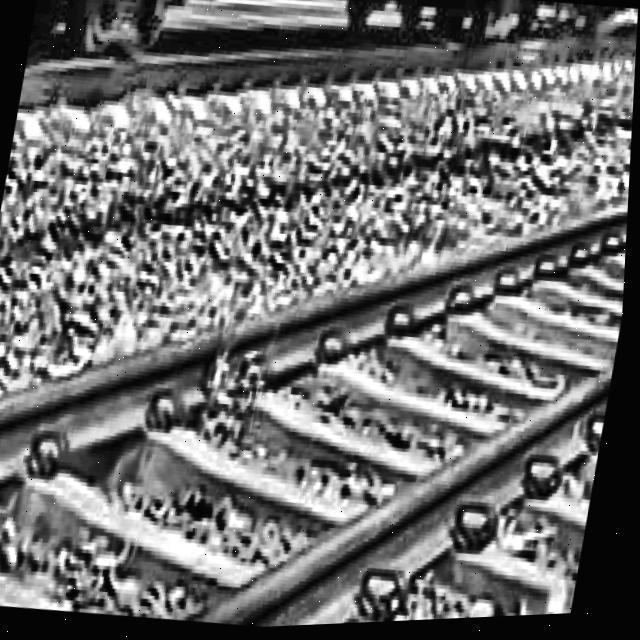Gerbong: (18, 0, 609, 167), (574, 7, 639, 39)
